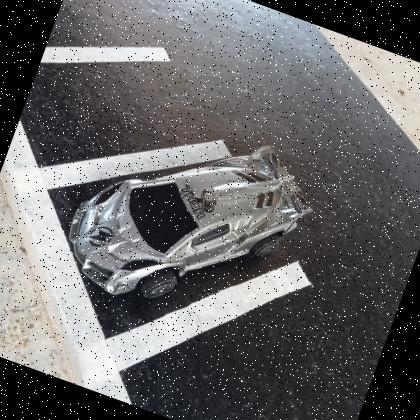Car: (65, 147, 311, 302)
